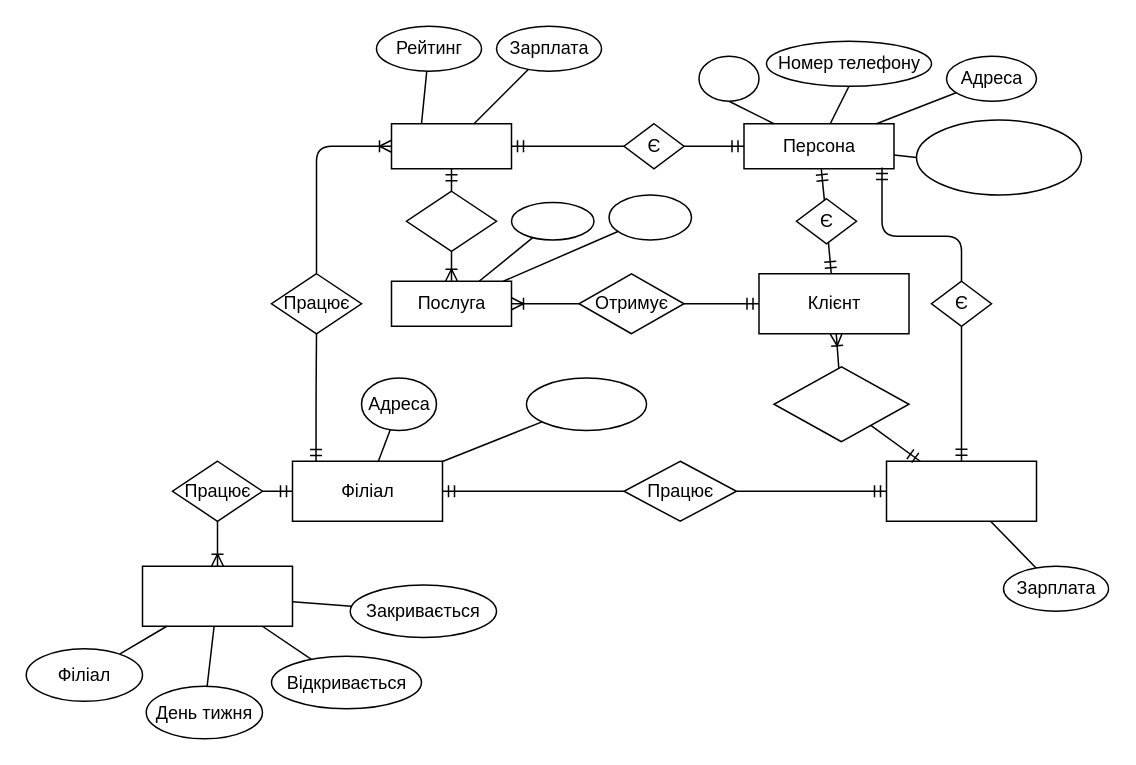
Image size: 1136x765. Some labels were removed from this diagram. Each missing label, with the centre of its shape:
"Гаряча лінія" belongs at pixel 585 403.
"Години роботи" belongs at pixel 216 595.
"Дата реєстрації/ початку роботи" belongs at pixel 998 156.
"Майстер" belongs at pixel 451 145.
"Менеджер" belongs at pixel 960 490.
"Надає" belongs at pixel 450 220.
"Назва" belongs at pixel 552 220.
"Обслуговує" belongs at pixel 840 403.
"ФІО" belongs at pixel 728 78.
"Ціна" belongs at pixel 650 217.
